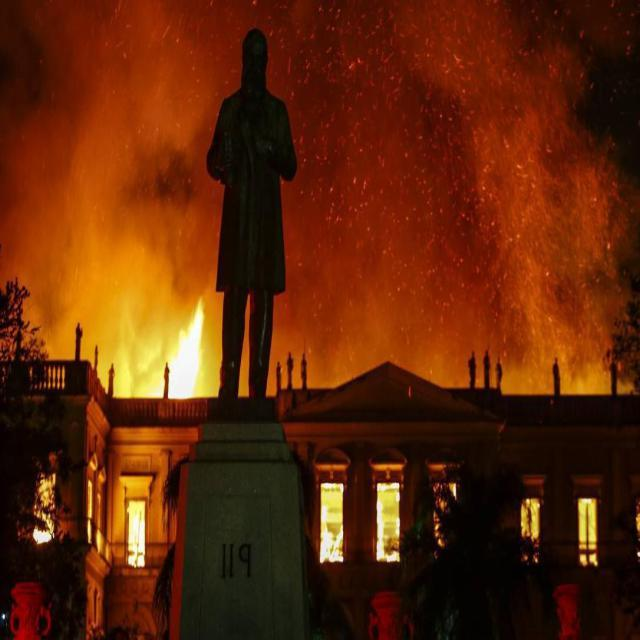Fire: (149, 286, 212, 398), (320, 478, 346, 564), (376, 482, 400, 562), (127, 502, 147, 566), (31, 512, 54, 545)
